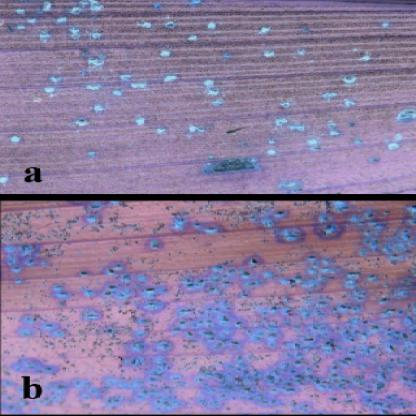Corn rust leaf: (4, 202, 415, 413), (1, 2, 415, 192)
